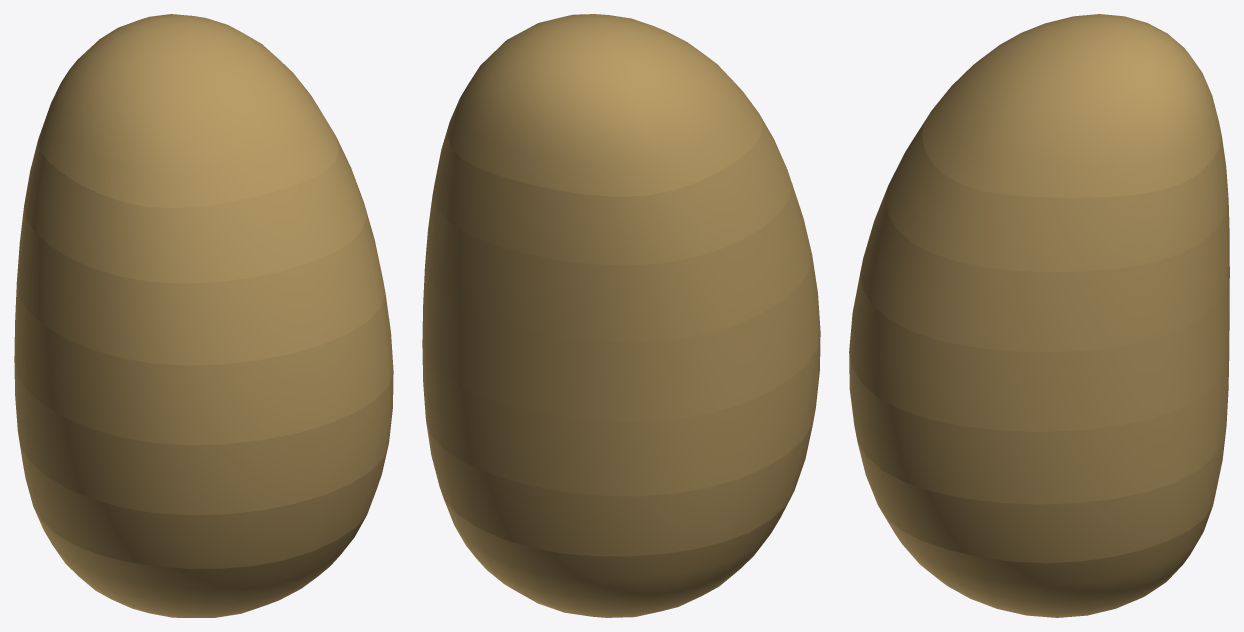
File: Potato.fbx
3 views of the same model, side by side, from view 1: azimuth 30°, elevation 25°; view 2: azimuth 150°, elevation 25°; view 3: azimuth 270°, elevation 25° (orthographic). The views are drawn at different scales.
Parts seen in each view (by area): view 1: Cube.004, Cube.006, Cube.007, Cube.005, Cube.008, Cube.009, Cube.010; view 2: Cube.004, Cube.007, Cube.006, Cube.008, Cube.005, Cube.009, Cube.010; view 3: Cube.004, Cube.007, Cube.006, Cube.008, Cube.005, Cube.009, Cube.010.
Boxes of the visible parts, x1,y1,x2,y2 form: Cube.004: (38,14,338,208); Cube.006: (17,204,385,365); Cube.007: (14,282,393,445); Cube.005: (24,137,366,283); Cube.008: (14,360,393,515); Cube.009: (18,435,388,568); Cube.010: (34,508,366,617); Cube.004: (447,14,762,196); Cube.007: (422,255,820,421); Cube.006: (425,184,812,342); Cube.008: (422,332,820,496); Cube.005: (432,114,792,265); Cube.009: (426,421,812,556); Cube.010: (444,494,792,617); Cube.004: (922,14,1221,197); Cube.007: (849,274,1229,431); Cube.006: (860,187,1229,352); Cube.008: (849,352,1229,504); Cube.005: (885,120,1228,272); Cube.009: (857,428,1226,563); Cube.010: (880,506,1212,617).
Bounding box in the file's own units: 166 × 276 × 167.
